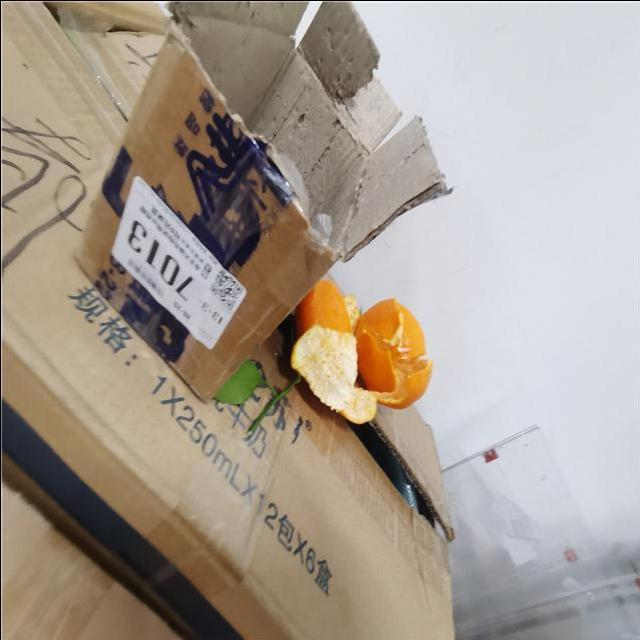orange peel: (352, 278, 434, 410), (290, 325, 378, 423), (292, 276, 355, 337)
